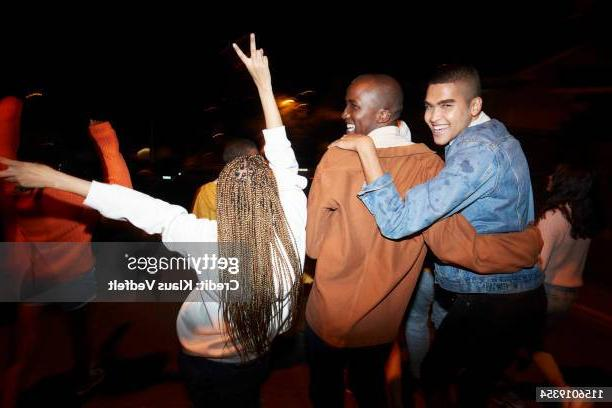jacket: (305, 132, 544, 346), (357, 115, 547, 294)
sweater: (83, 122, 309, 361)
